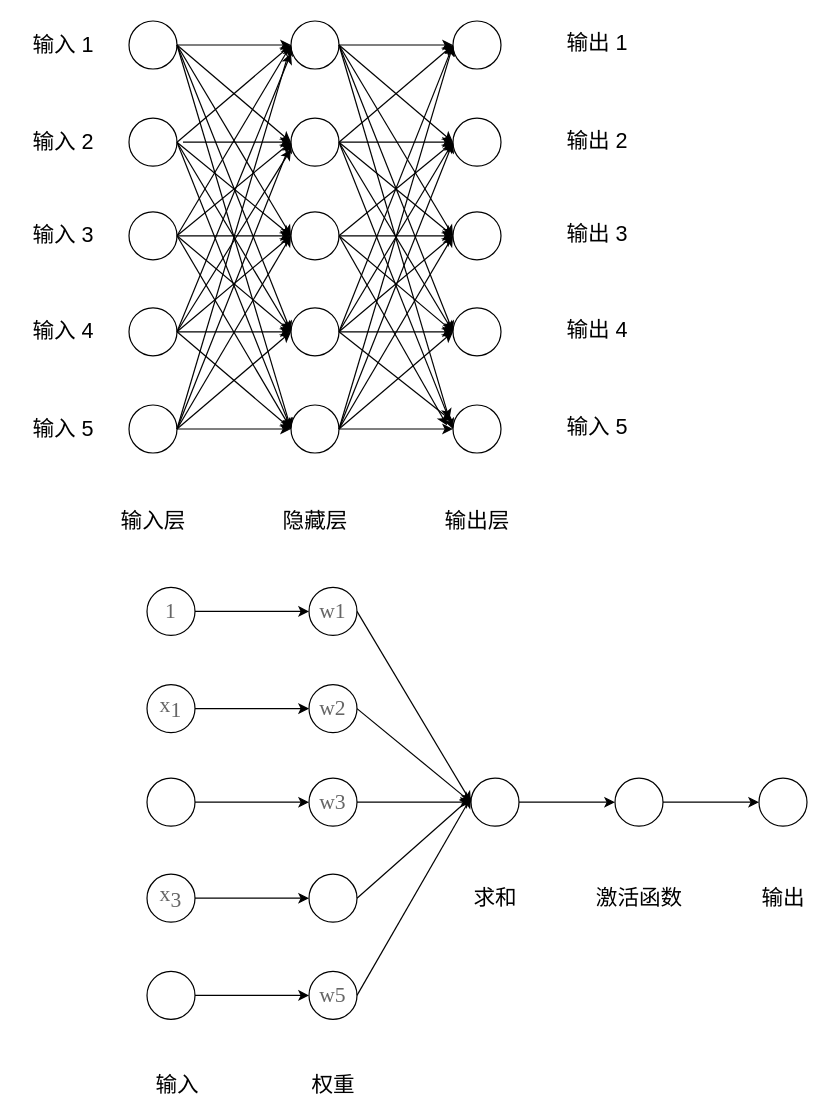
Image size: 833x1120. Some labels were removed from this diagram. The centre of each missing label's shape, as x and y in pixels:
"w4" goes at [332,897].
"x 2" goes at [170,801].
"x 4" goes at [170,994].
